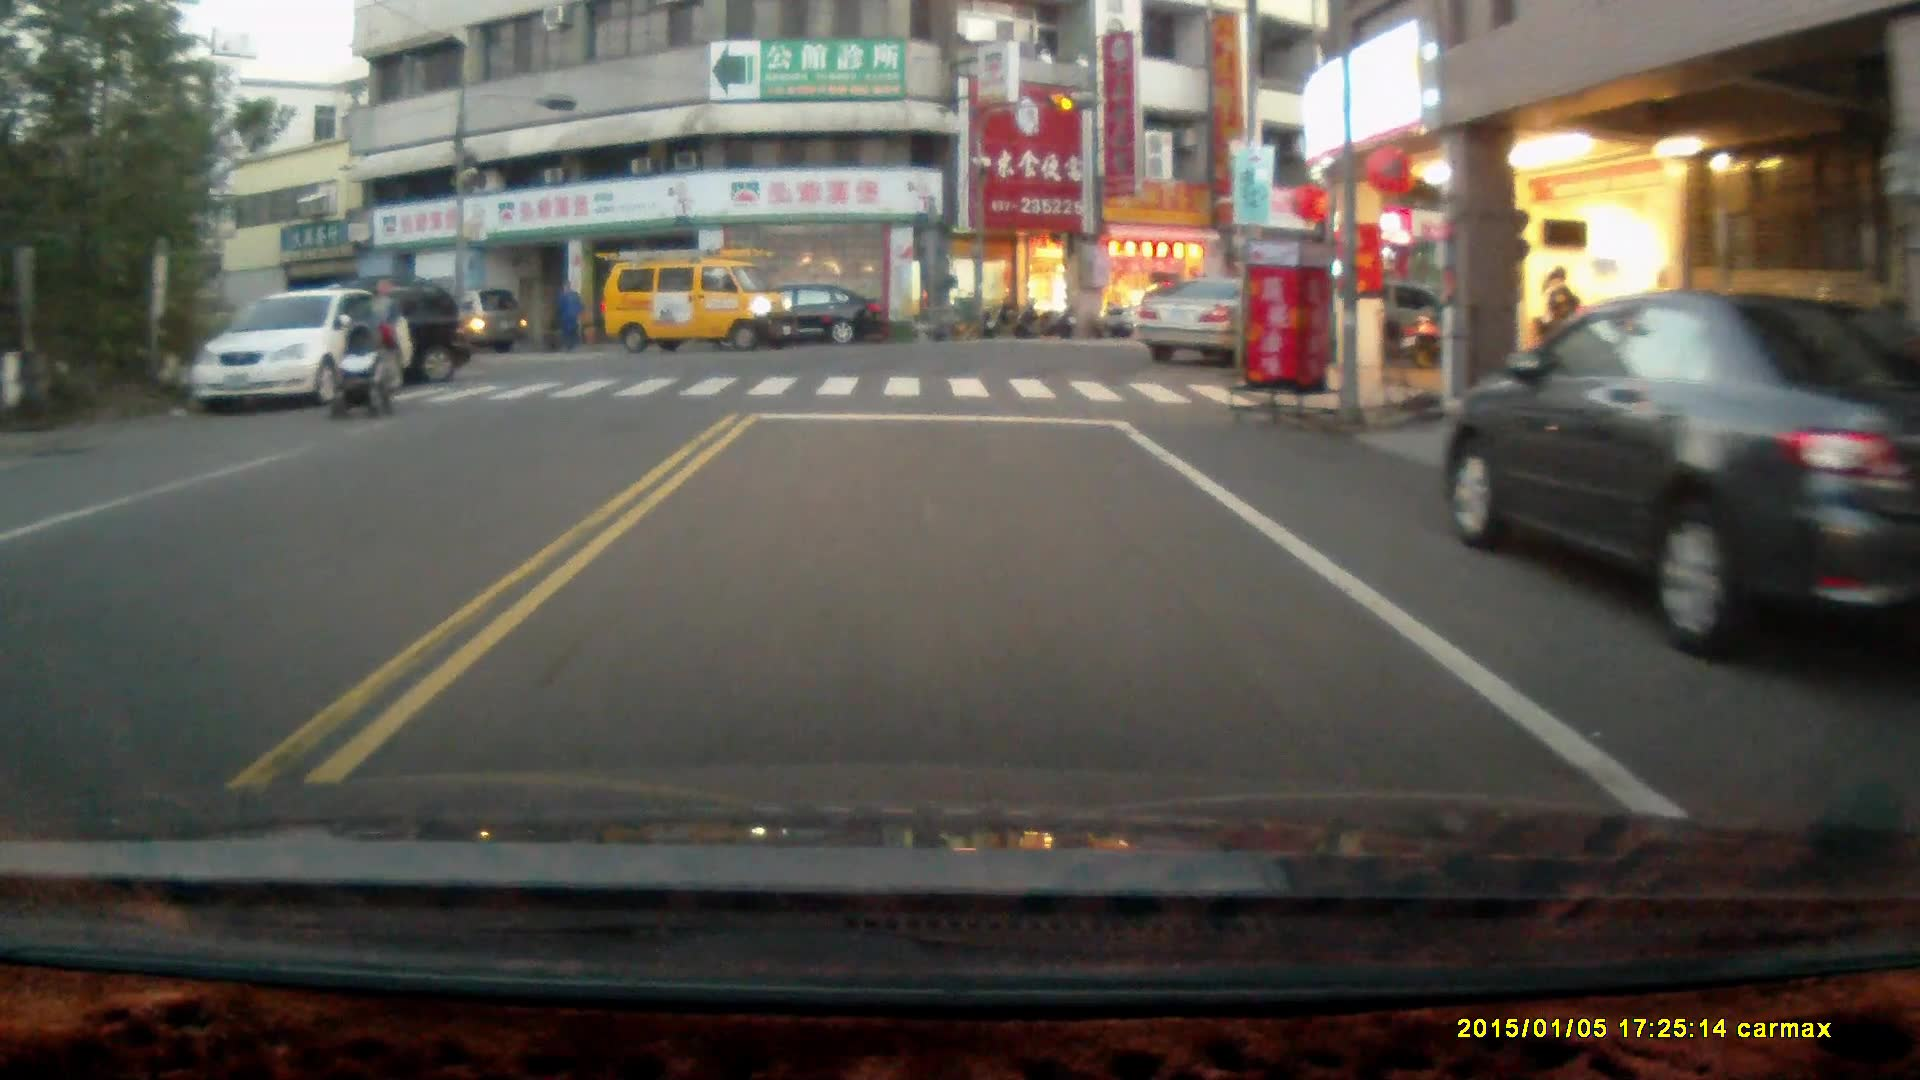pedestrian: (358, 273, 402, 403), (1547, 264, 1581, 386), (552, 277, 578, 349)
rider: (323, 319, 393, 423)
vehicle: (1440, 299, 1920, 673), (190, 291, 407, 417), (254, 271, 470, 383), (602, 248, 794, 353), (723, 277, 886, 348), (401, 284, 535, 364), (1135, 283, 1255, 371)
